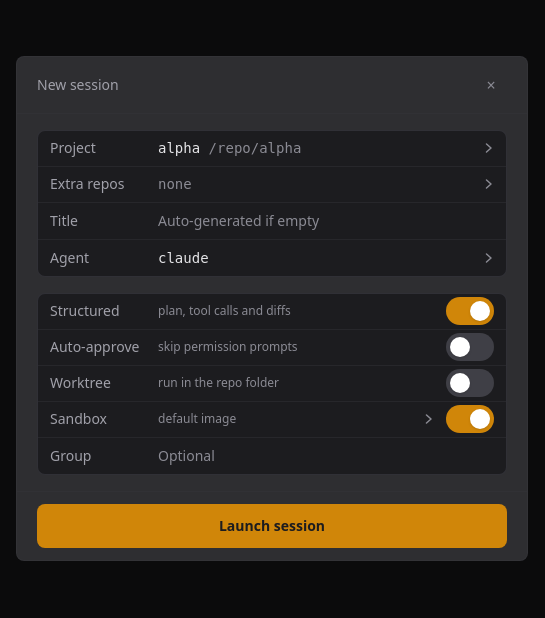
Test: project sandbox override on the remembered last-used path › when the project registry cannot be loaded › does not carry the previous project's override to another project whose lookup failed
Expected: the button "Launch session" is enabled, [37,504,507,548]
Click the text "Project".
click(73, 148)  # box [50,138,96,157]
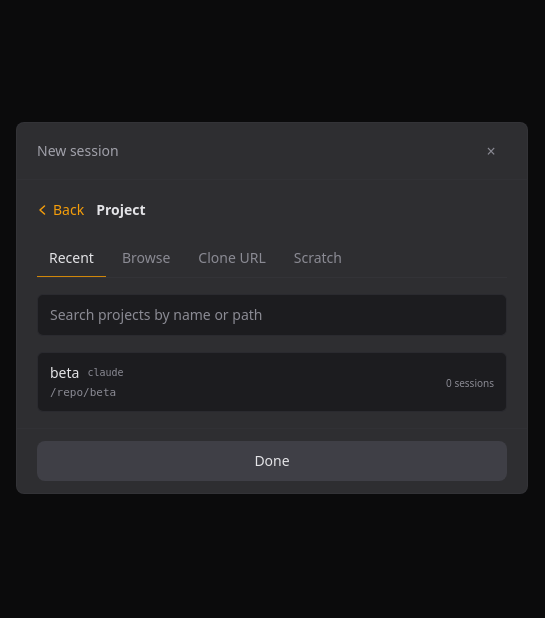
Click the button "beta claude /repo/beta 0 sessions".
click(105, 373)  # box [37,352,507,412]
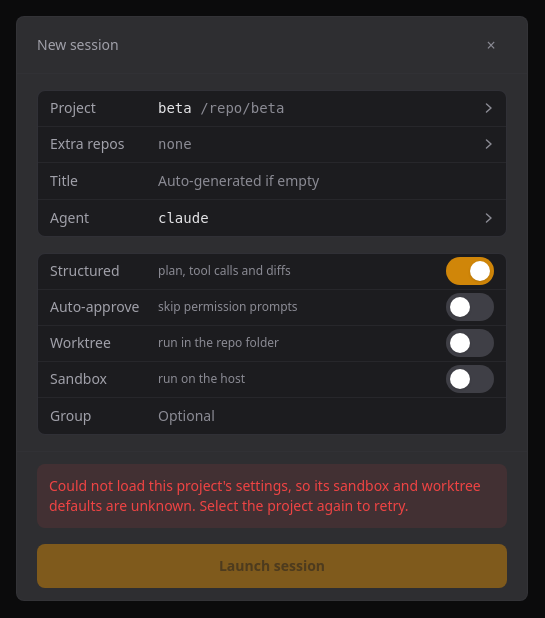
Result: the text "Could not load this project's settings" is shown at [49,476,481,514]
Result: the button "Launch session" is disabled at [37,544,507,588]
